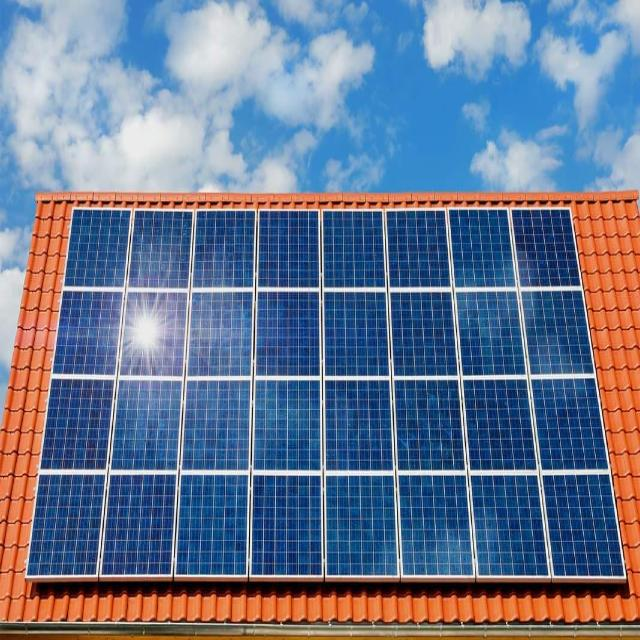clean-solar-panel: (120, 293, 186, 375)
